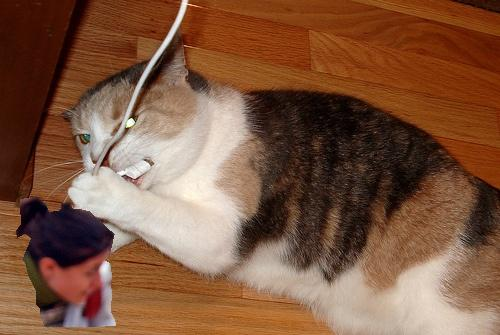tampered: (17, 197, 116, 327)
